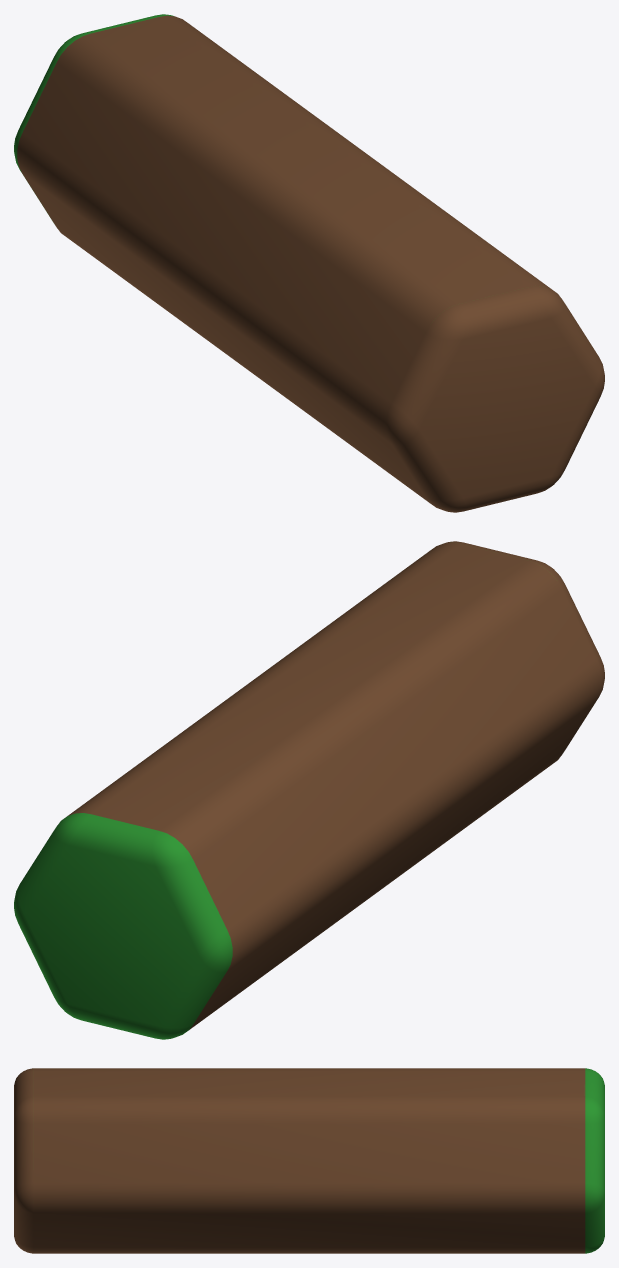
Rendered from Hex_smooth_thick.fbx.
3 views of the same model, one above another, from view 1: azimuth 30°, elevation 25°; view 2: azimuth 150°, elevation 25°; view 3: azimuth 270°, elevation 25° (orthographic). The views are drawn at different scales.
Visible parts, largest first — view 1: Hex; view 2: Hex; view 3: Hex.
Part boxes in pixels (x1,y1,x2,y2): Hex: [14, 14, 604, 512]; Hex: [14, 541, 604, 1039]; Hex: [14, 1068, 604, 1253].
Size of the model in its own units: 378 by 346 by 1204.
